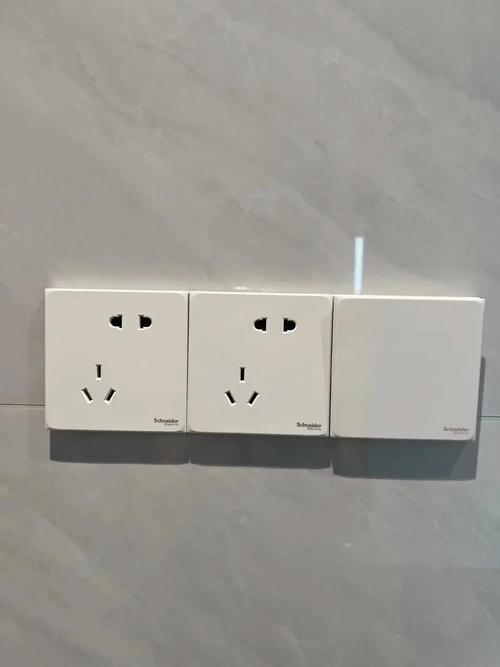button: (334, 295, 482, 441)
